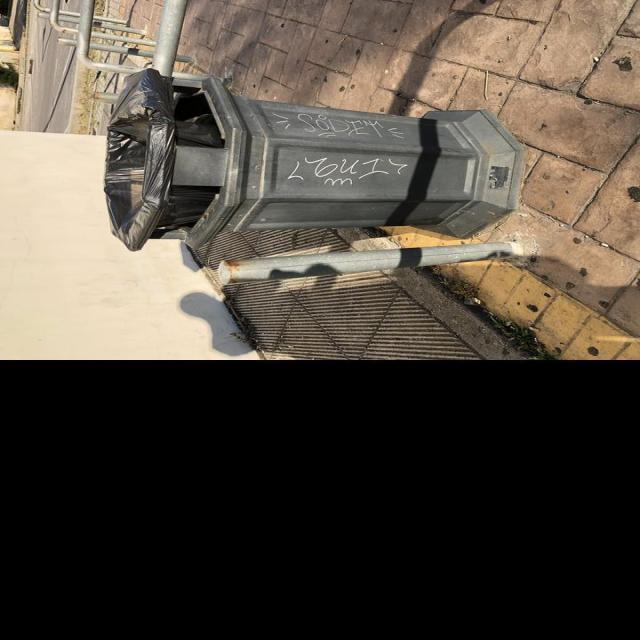nonspitting: (287, 157, 408, 186), (274, 113, 404, 139)
